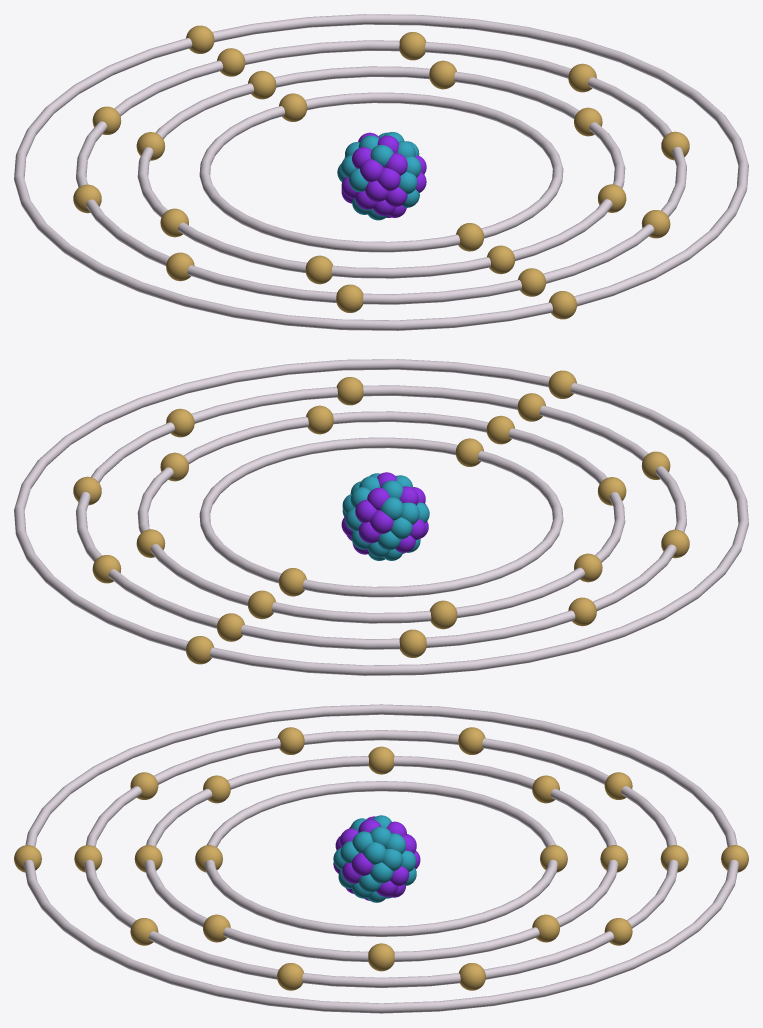
Rendered from titanio.glb.
The picture shows the model from 3 angles, top to bottom: view 1: azimuth 30°, elevation 25°; view 2: azimuth 150°, elevation 25°; view 3: azimuth 270°, elevation 25°; orthographic projection. The views are drawn at different scales.
Parts seen in each view (by area): view 1: Orbita_4, Orbita_3, Orbita_2, Orbita_1, Nucleo_Completo, Eletron_C3_10, Eletron_C2_8, Eletron_C3_5, Eletron_C2_4, Eletron_C2_1, Eletron_1, Eletron_C4_1 (+15 smaller); view 2: Orbita_4, Orbita_3, Orbita_2, Orbita_1, Nucleo_Completo, Eletron_C3_7, Eletron_C2_6, Eletron_C3_2, Eletron_C2_2, Eletron_C2_5, Eletron_2, Eletron_C4_2 (+15 smaller); view 3: Orbita_4, Orbita_3, Orbita_2, Orbita_1, Nucleo_Completo, Eletron_C2_3, Eletron_C3_3, Eletron_C3_4, Eletron_C2_7, Eletron_C3_8, Eletron_C3_9, Eletron_C2_2 (+15 smaller).
Boxes of the visible parts, x1=… form: Orbita_4: x1=14, y1=14, x2=748, y2=330; Orbita_3: x1=76, y1=40, x2=686, y2=304; Orbita_2: x1=137, y1=66, x2=625, y2=278; Orbita_1: x1=199, y1=92, x2=563, y2=252; Nucleo_Completo: x1=337, y1=132, x2=426, y2=220; Eletron_C3_10: x1=336, y1=284, x2=363, y2=312; Eletron_C2_8: x1=305, y1=255, x2=332, y2=284; Eletron_C3_5: x1=399, y1=32, x2=426, y2=60; Eletron_C2_4: x1=429, y1=60, x2=456, y2=89; Eletron_C2_1: x1=487, y1=245, x2=514, y2=274; Eletron_1: x1=456, y1=223, x2=484, y2=251; Eletron_C4_1: x1=548, y1=291, x2=576, y2=319; Orbita_4: x1=14, y1=359, x2=748, y2=675; Orbita_3: x1=76, y1=385, x2=686, y2=649; Orbita_2: x1=137, y1=411, x2=625, y2=623; Orbita_1: x1=199, y1=437, x2=563, y2=597; Nucleo_Completo: x1=341, y1=472, x2=429, y2=560; Eletron_C3_7: x1=399, y1=629, x2=426, y2=657; Eletron_C2_6: x1=430, y1=600, x2=457, y2=629; Eletron_C3_2: x1=336, y1=377, x2=363, y2=405; Eletron_C2_2: x1=306, y1=405, x2=333, y2=434; Eletron_C2_5: x1=248, y1=590, x2=275, y2=619; Eletron_2: x1=278, y1=568, x2=306, y2=596; Eletron_C4_2: x1=186, y1=636, x2=214, y2=664; Orbita_4: x1=24, y1=704, x2=738, y2=1013; Orbita_3: x1=84, y1=730, x2=678, y2=987; Orbita_2: x1=144, y1=756, x2=618, y2=961; Orbita_1: x1=205, y1=781, x2=557, y2=936; Nucleo_Completo: x1=333, y1=815, x2=420, y2=902; Eletron_C2_3: x1=368, y1=943, x2=394, y2=971; Eletron_C3_3: x1=277, y1=963, x2=303, y2=990; Eletron_C3_4: x1=459, y1=963, x2=485, y2=990; Eletron_C2_7: x1=368, y1=746, x2=394, y2=774; Eletron_C3_8: x1=458, y1=727, x2=485, y2=754; Eletron_C3_9: x1=277, y1=727, x2=304, y2=754; Eletron_C2_2: x1=203, y1=914, x2=230, y2=942.
Bounding box in the file's own units: 4.16 × 0.5043 × 4.26.
